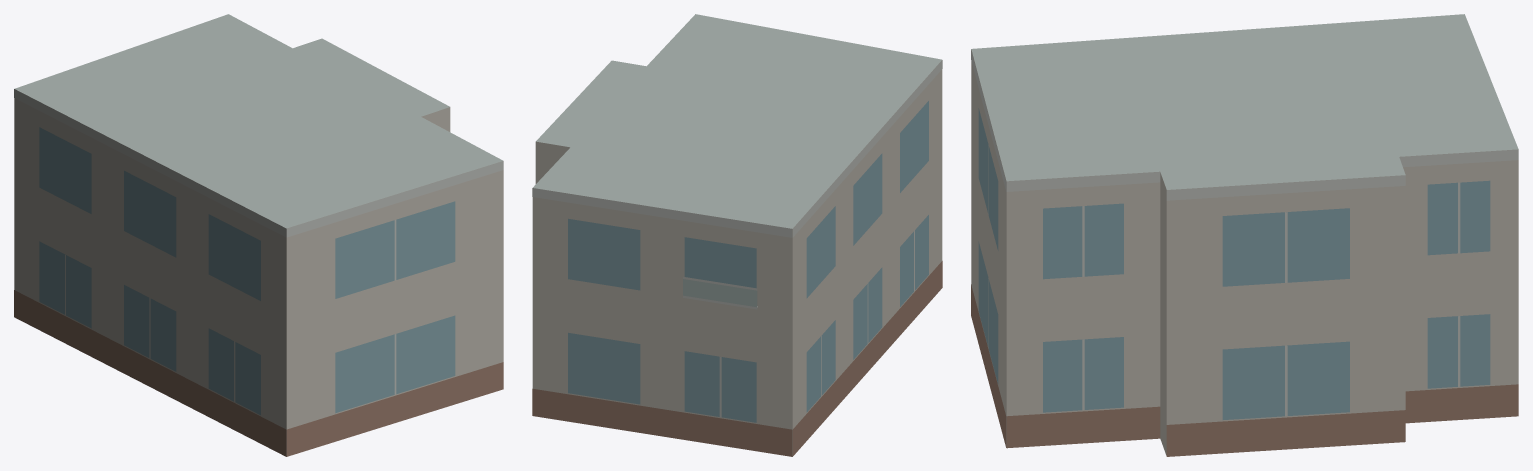
File: survey-upis-32606813.glb
3 views of the same model, side by side, from view 1: azimuth 30°, elevation 25°; view 2: azimuth 150°, elevation 25°; view 3: azimuth 270°, elevation 25° (orthographic). The views are drawn at different scales.
Parts seen in each view (by area): view 1: survey-upis-32606813.tmp; view 2: survey-upis-32606813.tmp; view 3: survey-upis-32606813.tmp.
Part boxes in pixels (bbox=[...]): survey-upis-32606813.tmp: bbox=[14, 14, 503, 456]; survey-upis-32606813.tmp: bbox=[532, 14, 942, 456]; survey-upis-32606813.tmp: bbox=[971, 14, 1518, 456].
Size of the model in its own units: 8.64 by 6.1 by 11.35.
